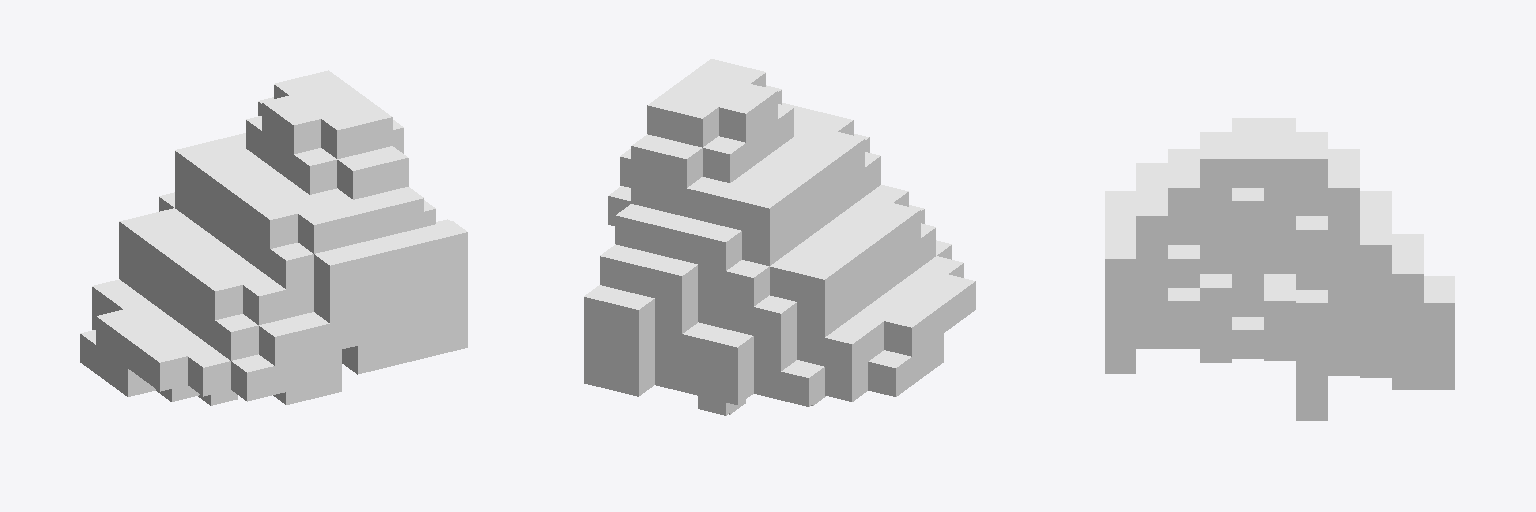
Rendered from BossGibb2.obj.
The picture shows the model from 3 angles: view 1: azimuth 30°, elevation 25°; view 2: azimuth 150°, elevation 25°; view 3: azimuth 270°, elevation 25°; orthographic projection.
Parts seen in each view (by area): view 1: object 1; view 2: object 1; view 3: object 1.
Part boxes in pixels (bbox=[...]): object 1: bbox=[80, 70, 467, 405]; object 1: bbox=[584, 59, 975, 415]; object 1: bbox=[1105, 118, 1454, 420].
Size of the model in its own units: 1.1 by 1 by 1.1.